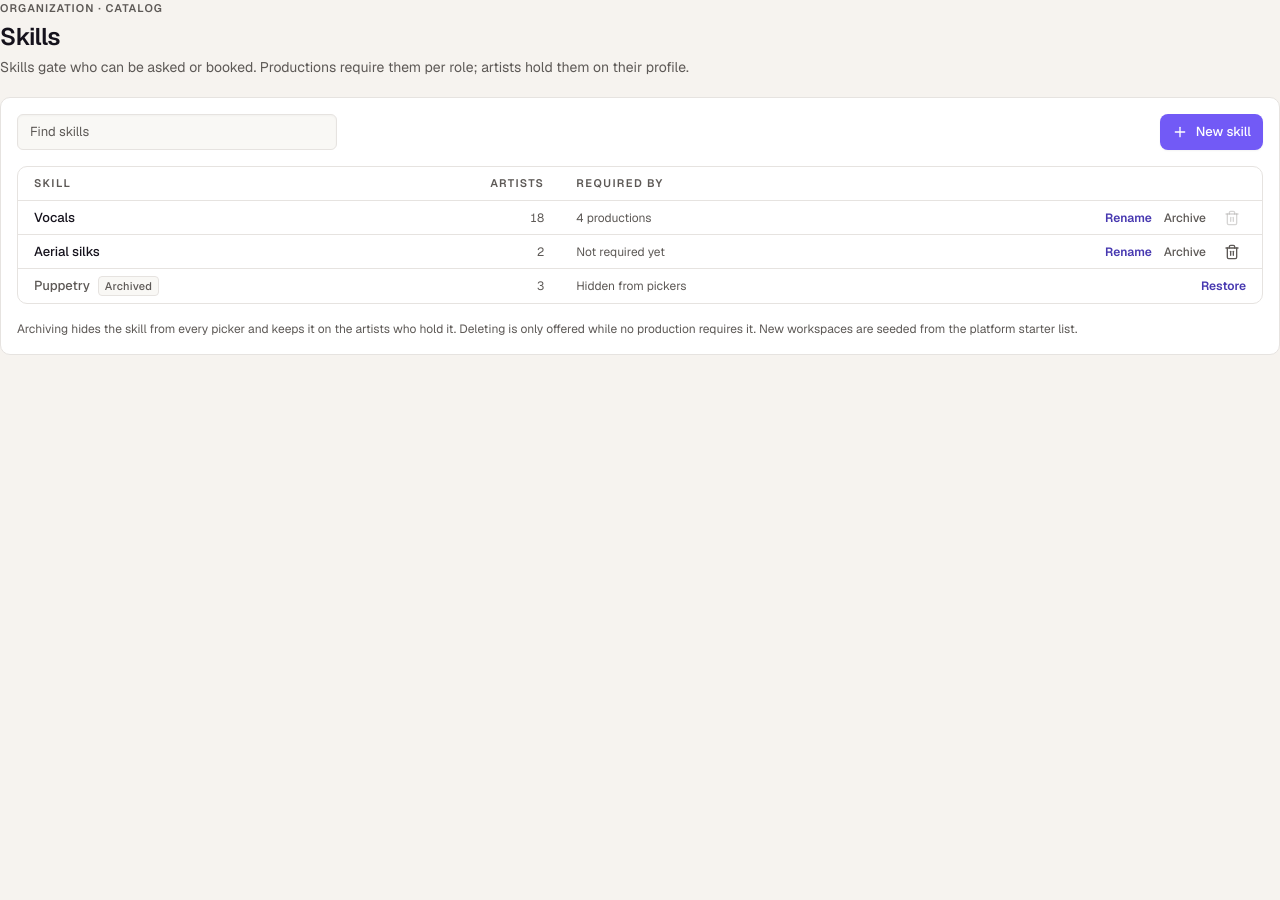
Test case: SkillsTab › clicking Rename opens the editor dialog seeded with the current name, and saving renames
Later steps or results of the test are not shown.
Click the button "Rename" in the row of "Vocals" at (1128, 218), box [1105,210,1152,226]
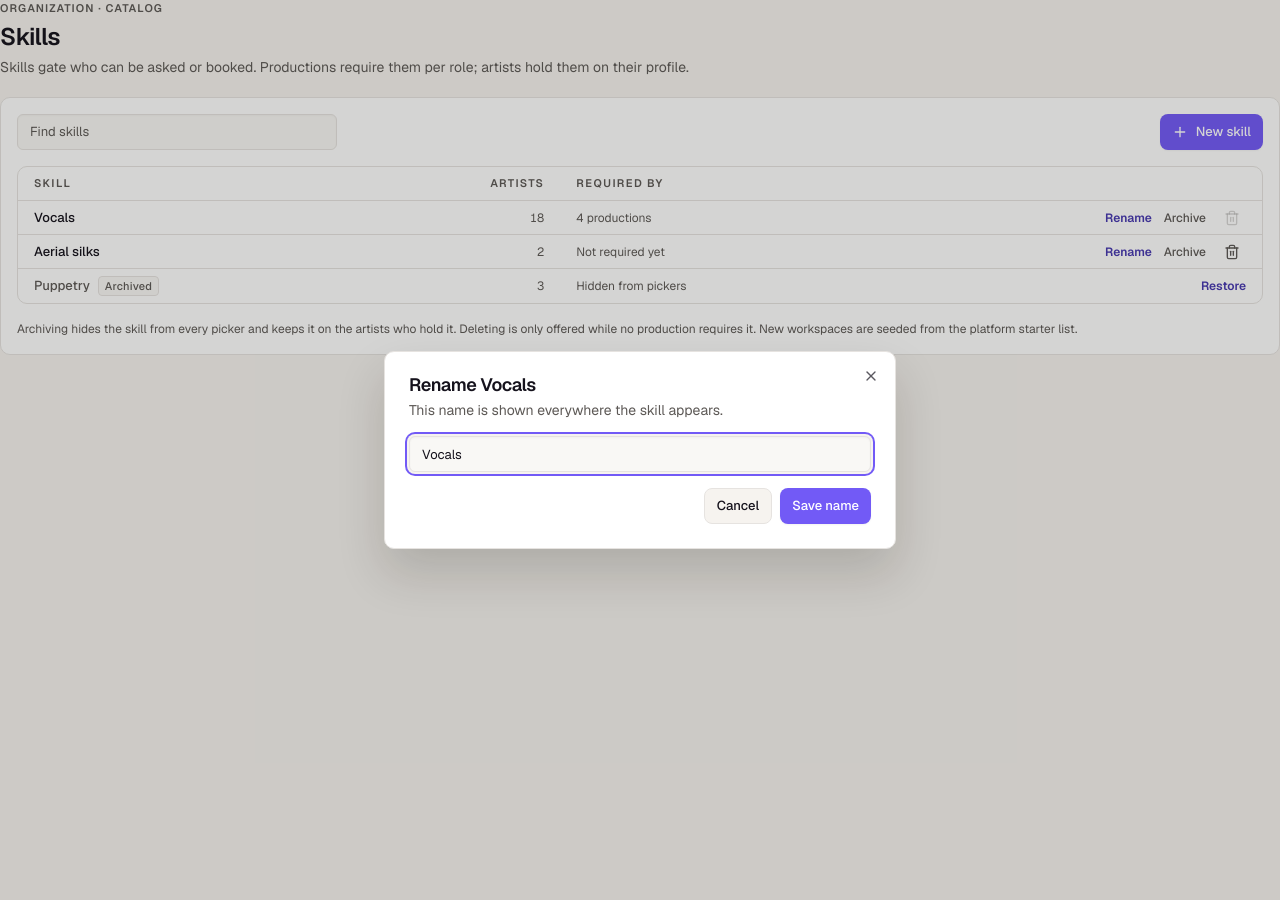
Now the heading "Rename Vocals" is shown, box [409,373,536,396]
